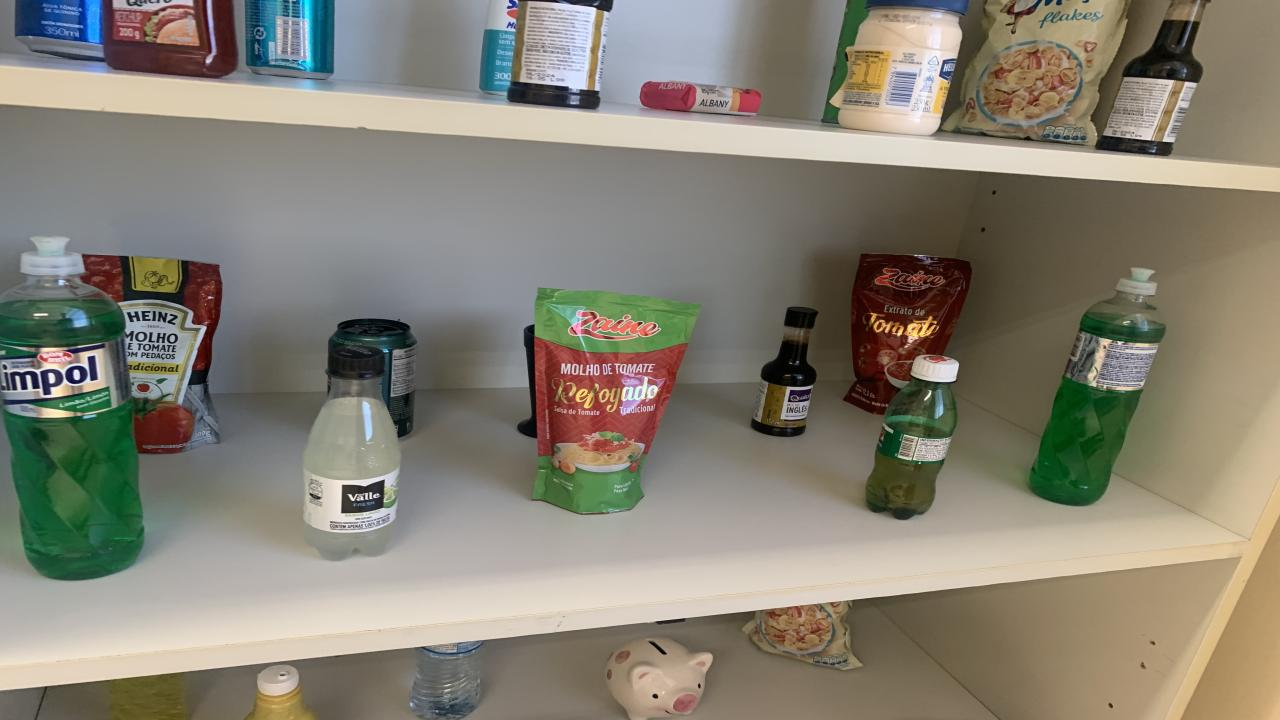Cleaner-Cleanup_Items: (480, 0, 518, 94)
Detergent-Cleanup_Items: (0, 236, 142, 579), (1030, 268, 1165, 506), (110, 673, 188, 720)
English_Sauce-Pantry_Items: (1098, 0, 1210, 156), (508, 0, 612, 109), (750, 308, 818, 437)
Flakes-Snacks: (942, 0, 1130, 146), (742, 602, 862, 669)
Guarana-Drinks: (865, 354, 958, 519)
Guarana_Can-Drinks: (328, 319, 418, 437)
Ketchup-Pantry_Items: (102, 0, 238, 77)
Mayonnaise-Pantry_Items: (838, 0, 968, 135)
Mustard-Pantry_Items: (245, 664, 318, 720)
Pig_Safe-Miscellaneous: (605, 638, 712, 720)
Soap-Cleanup_Items: (640, 81, 760, 116)
Soda-Drinks: (302, 347, 400, 561)
Tea-Drinks: (245, 0, 335, 79)
Tomato_Sauce-Pantry_Items: (520, 289, 698, 514), (82, 255, 222, 454), (845, 253, 972, 414)
Tonic-Drinks: (15, 0, 102, 60)
Water_Bottle-Drinks: (410, 641, 482, 718)
